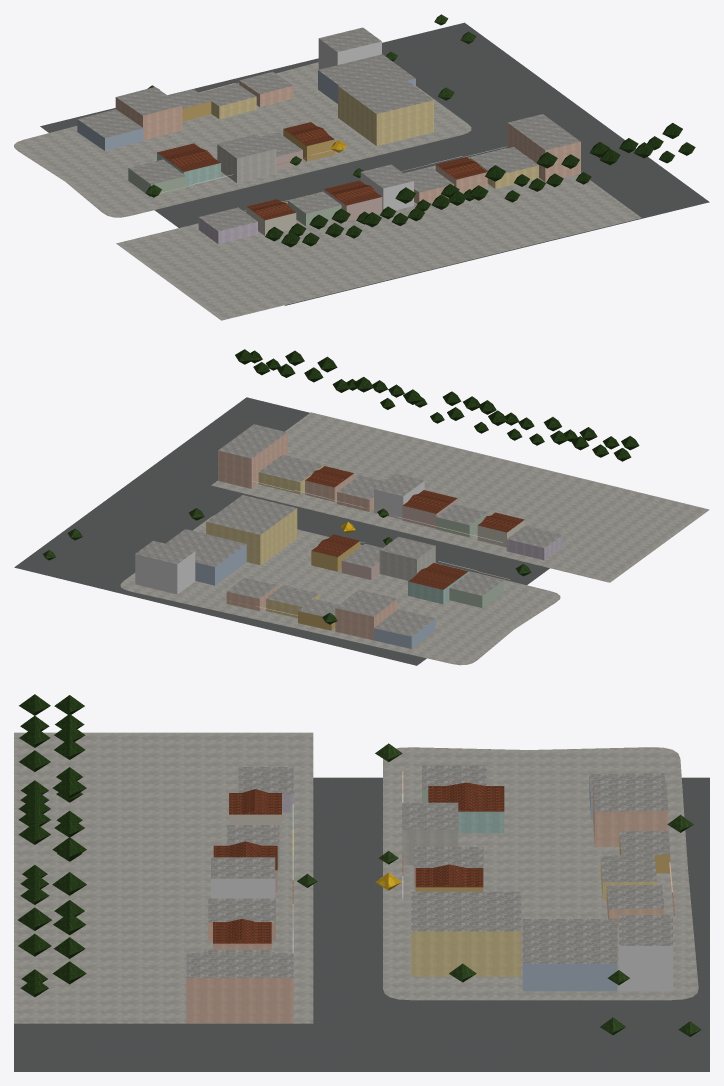
The model's file is cidade_S05_00_lod.gltf.
3 views of the same model, one above another, from view 1: azimuth 30°, elevation 25°; view 2: azimuth 150°, elevation 25°; view 3: azimuth 270°, elevation 25° (orthographic). The views are drawn at different scales.
Visible parts, largest first — view 1: S05_00_Chao_LOD2, S05_00_Edificios_LOD1, S05_00_Vegetacao_LOD2, S05_00_Silhueta_LOD2; view 2: S05_00_Chao_LOD2, S05_00_Edificios_LOD1, S05_00_Vegetacao_LOD2, S05_00_Silhueta_LOD2; view 3: S05_00_Chao_LOD2, S05_00_Edificios_LOD1, S05_00_Vegetacao_LOD2, S05_00_Silhueta_LOD2.
Boxes of the visible parts, x1=… form: S05_00_Chao_LOD2: x1=14, y1=22, x2=709, y2=320; S05_00_Edificios_LOD1: x1=77, y1=27, x2=580, y2=244; S05_00_Vegetacao_LOD2: x1=145, y1=14, x2=695, y2=247; S05_00_Silhueta_LOD2: x1=157, y1=122, x2=487, y2=234; S05_00_Chao_LOD2: x1=14, y1=397, x2=709, y2=665; S05_00_Edificios_LOD1: x1=135, y1=424, x2=562, y2=648; S05_00_Vegetacao_LOD2: x1=43, y1=349, x2=639, y2=624; S05_00_Silhueta_LOD2: x1=305, y1=466, x2=524, y2=603; S05_00_Chao_LOD2: x1=14, y1=732, x2=709, y2=1071; S05_00_Edificios_LOD1: x1=186, y1=765, x2=674, y2=1023; S05_00_Vegetacao_LOD2: x1=18, y1=694, x2=701, y2=1036; S05_00_Silhueta_LOD2: x1=213, y1=786, x2=504, y2=949.
Bounding box in the file's own units: 115 × 15.98 × 100.
Materials: 20 (20 with a texture image).
